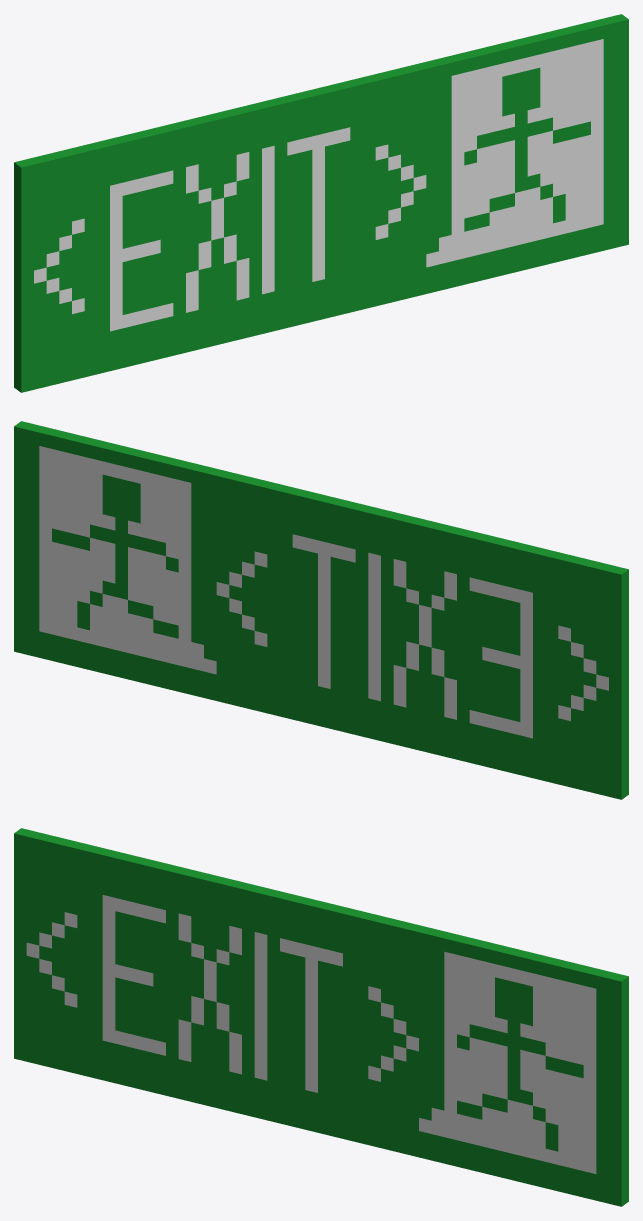
File: ExitSign.obj
The picture shows the model from 3 angles, top to bottom: view 1: azimuth 30°, elevation 25°; view 2: azimuth 150°, elevation 25°; view 3: azimuth 330°, elevation 25°; orthographic projection.
Bounding box in the file's own units: 4.8 × 1.7 × 0.1.
